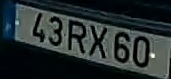0: (131, 34, 150, 69)
3: (47, 14, 64, 47)
4: (30, 10, 46, 44)
6: (112, 29, 132, 64)
R: (66, 17, 87, 56)
X: (87, 23, 109, 60)
